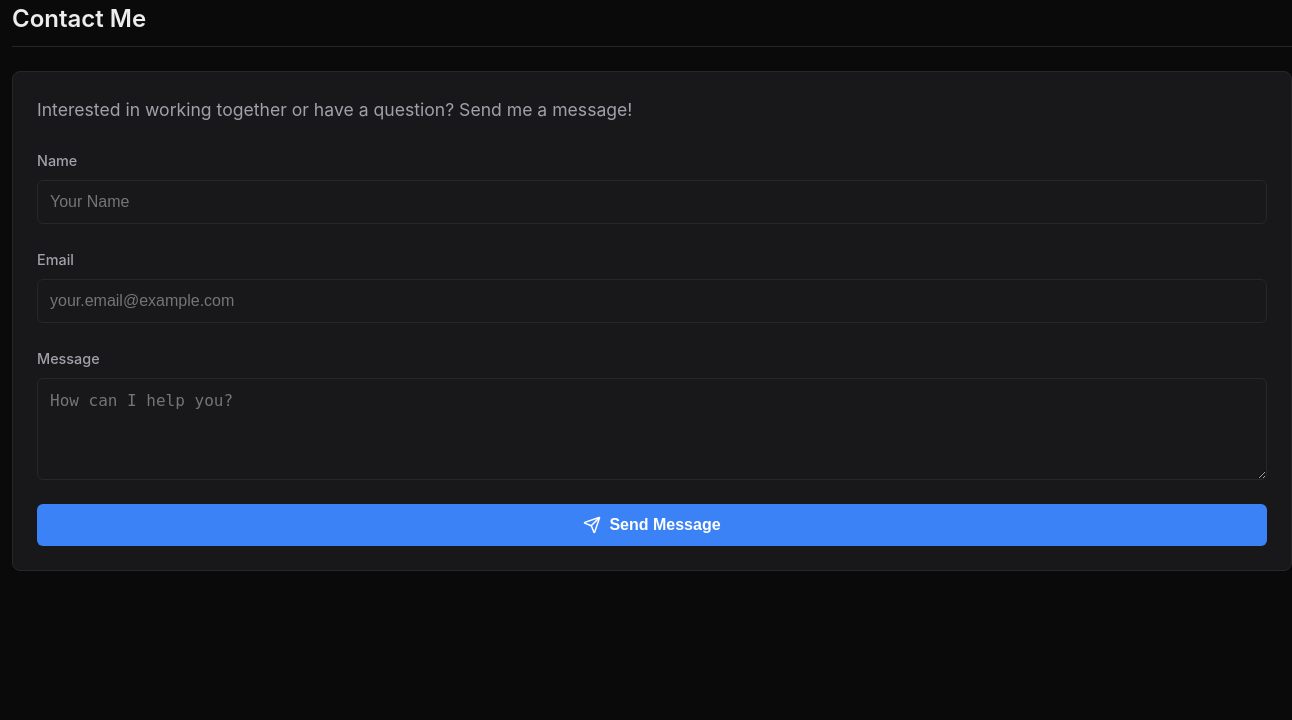
Test: Contact Component › shows error message on failed form submission
In the field with test id "contact-name": (652, 202) 37,180 -> 1267,224, type "John Doe"
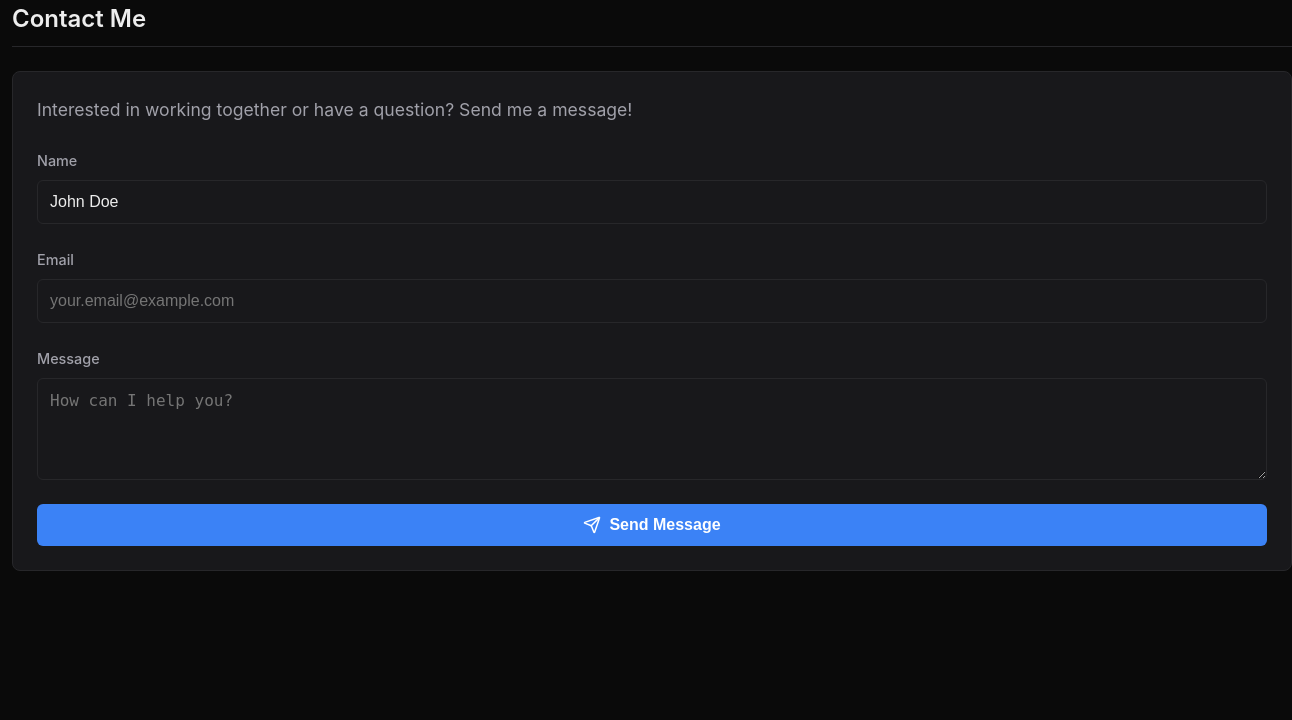
In the field with test id "contact-email": (652, 301) 37,279 -> 1267,323, type "john@example.com"
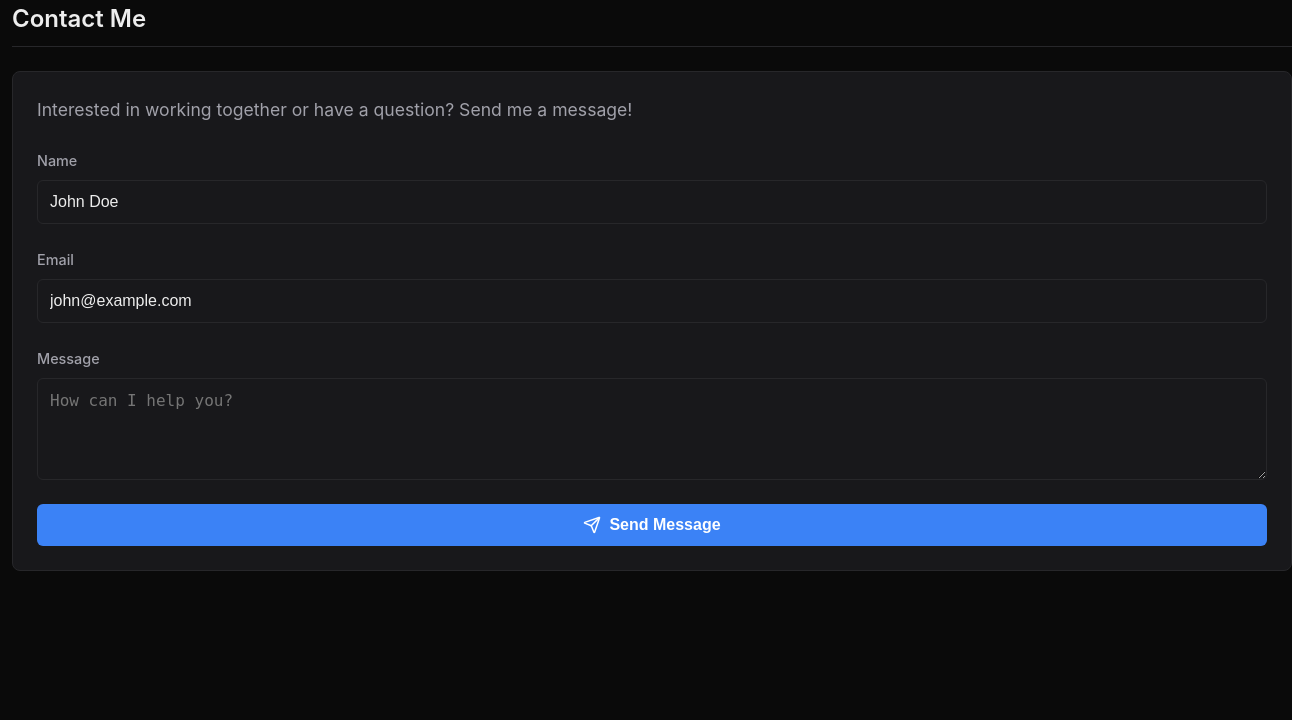
In the text box with test id "contact-message": (652, 429) 37,378 -> 1267,480, type "Hello"
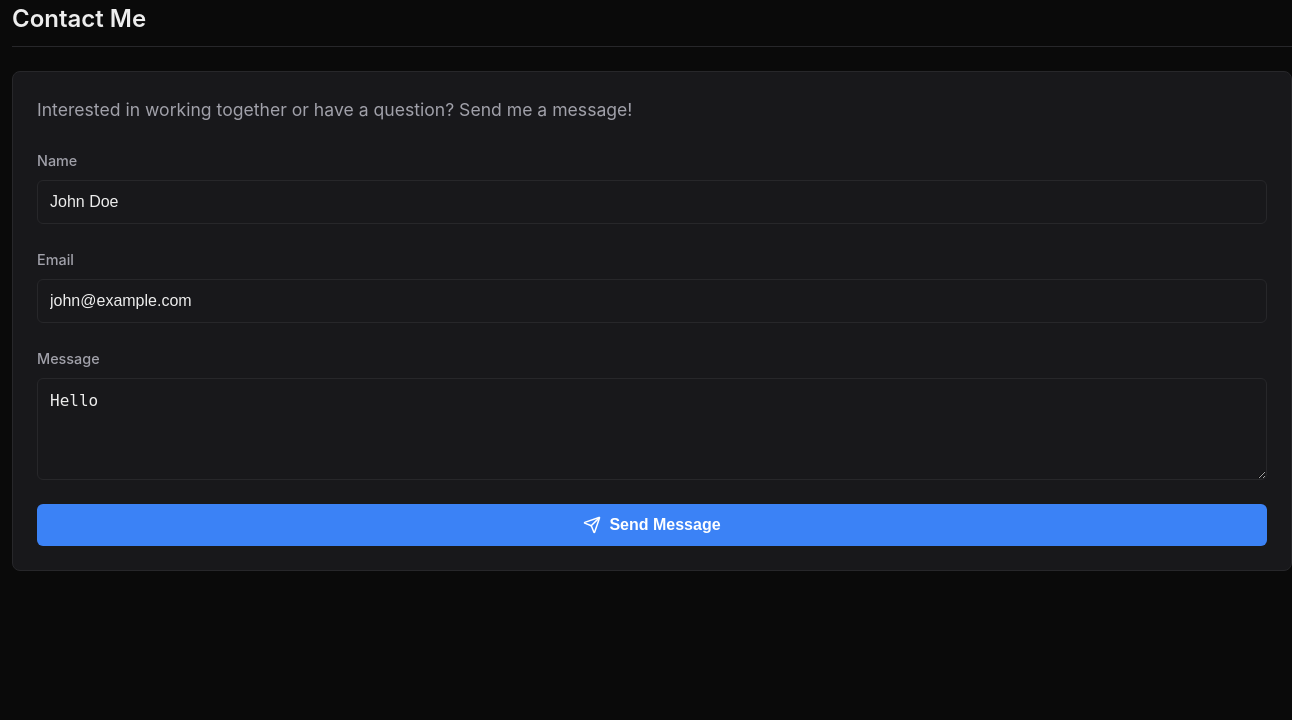
Click the button with test id "contact-submit": (652, 525) 37,504 -> 1267,546
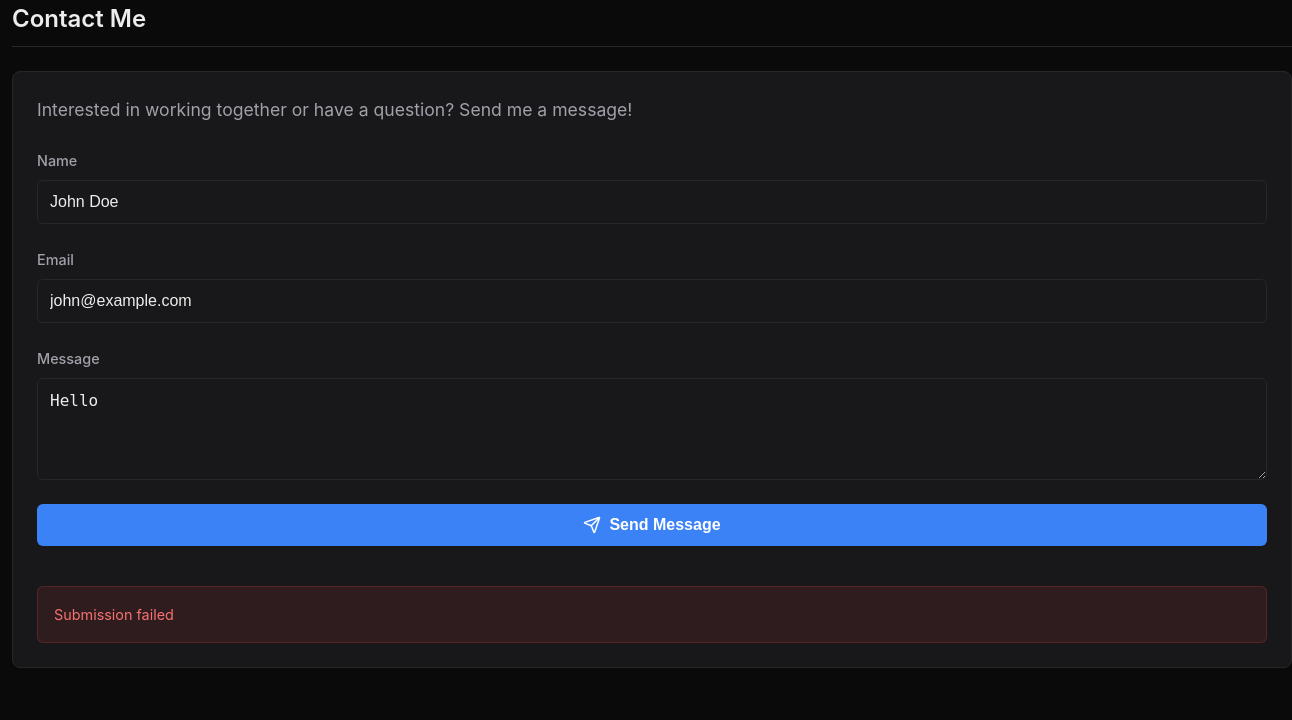
Expected: the text with test id "contact-status-message" reads "Submission failed", 54,606 -> 174,623
